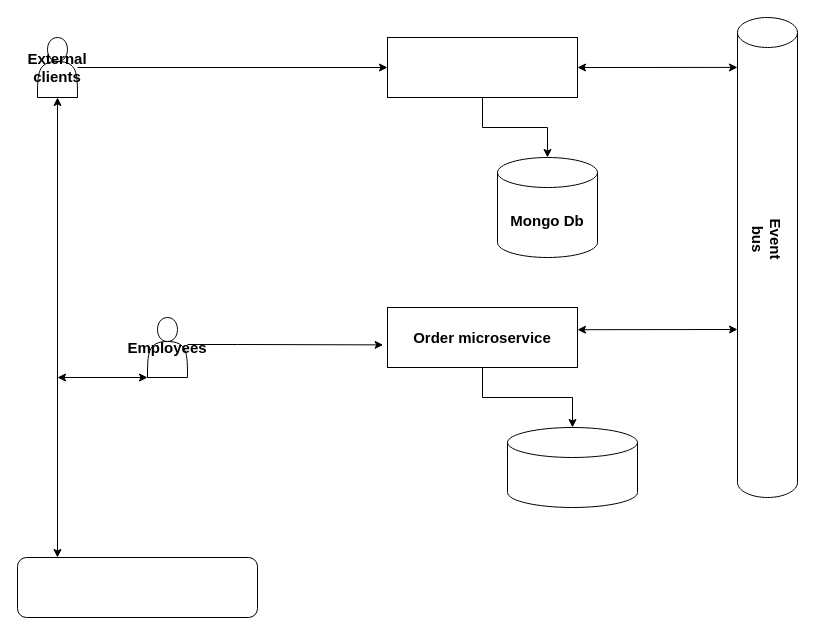
The diagram is 815 pixels wide and 635 high, and some of its shapes have lost their labels. Each missing label, with the centre of its shape:
"External.Api" goes at (482,67).
"Identity" goes at (137,587).
"SQL Db" goes at (572,467).
